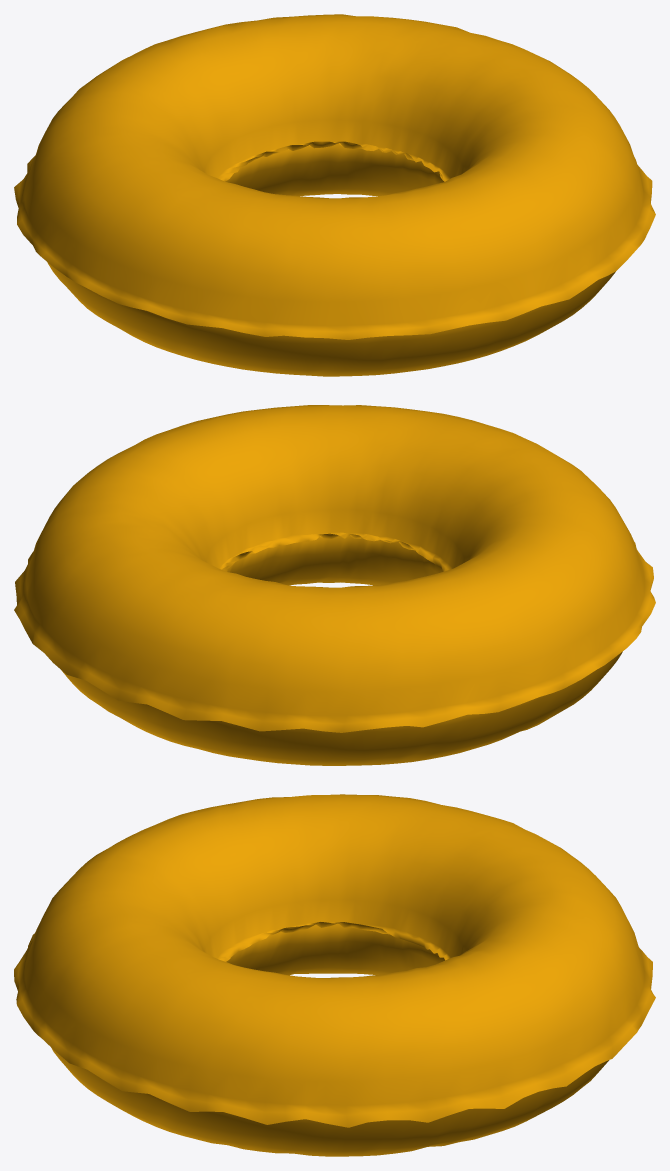
Rendered from inflatable_pool_ring.glb.
3 views of the same model, one above another, from view 1: azimuth 30°, elevation 25°; view 2: azimuth 150°, elevation 25°; view 3: azimuth 270°, elevation 25° (orthographic).
Visible parts, largest first — view 1: Object_3; view 2: Object_3; view 3: Object_3.
Boxes of the visible parts, <box> form: Object_3: <box>14,14,655,376</box>; Object_3: <box>14,405,655,765</box>; Object_3: <box>14,794,655,1156</box>.
Size of the model in its own units: 2.96 by 0.8132 by 2.96.
